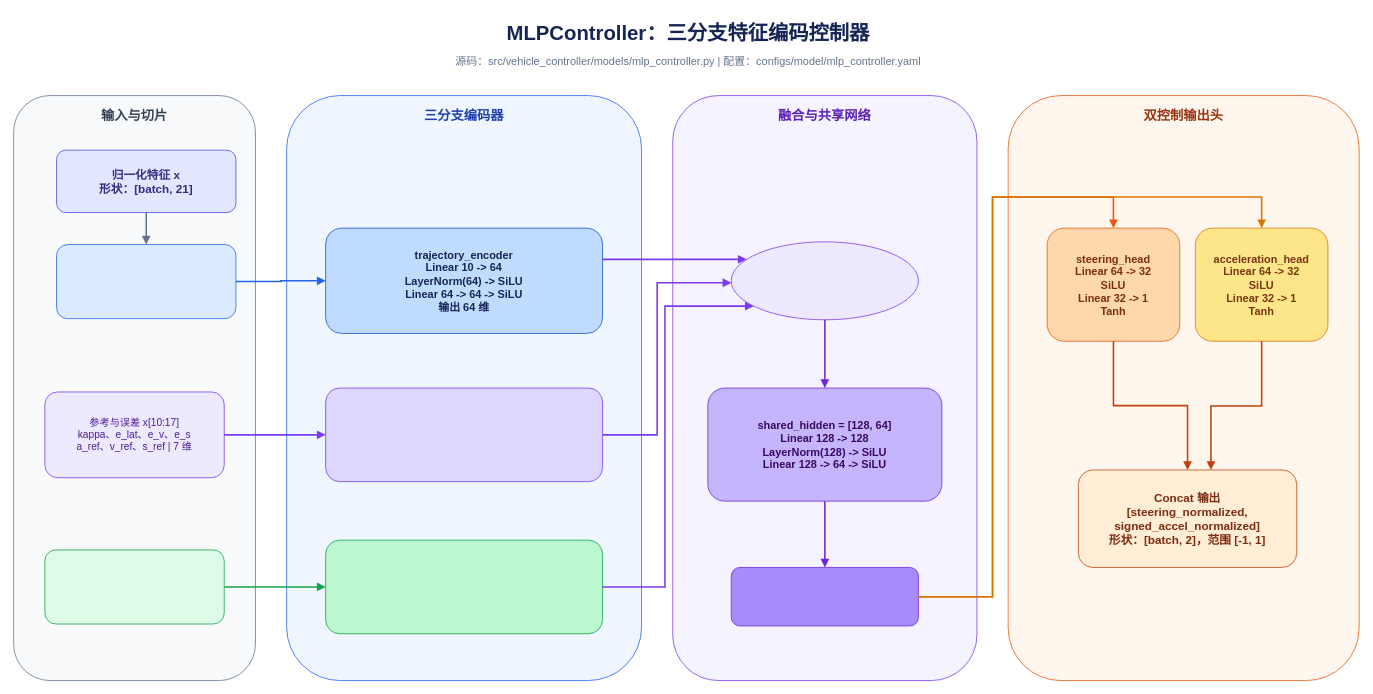
The diagram is 1373 pixels wide and 694 high, and some of its shapes have lost their labels. Each missing label, with the box of its shape:
Concat 64 + 32 + 32 = 128 维: (730, 241, 918, 320)
error_encoder Linear 7 -> 32 LayerNorm(32) -> SiLU 输出 32 维: (325, 387, 603, 482)
state_encoder Linear 4 -> 32 LayerNorm(32) -> SiLU 输出 32 维: (325, 539, 603, 634)
共享表示 h 形状：[batch, 64]: (730, 567, 918, 626)
车辆状态 x[17:21] vx、ax、ay、r 5 维: (44, 549, 224, 624)
轨迹几何 x[0:10] 5 个局部轨迹点 10 维: (56, 244, 236, 319)
